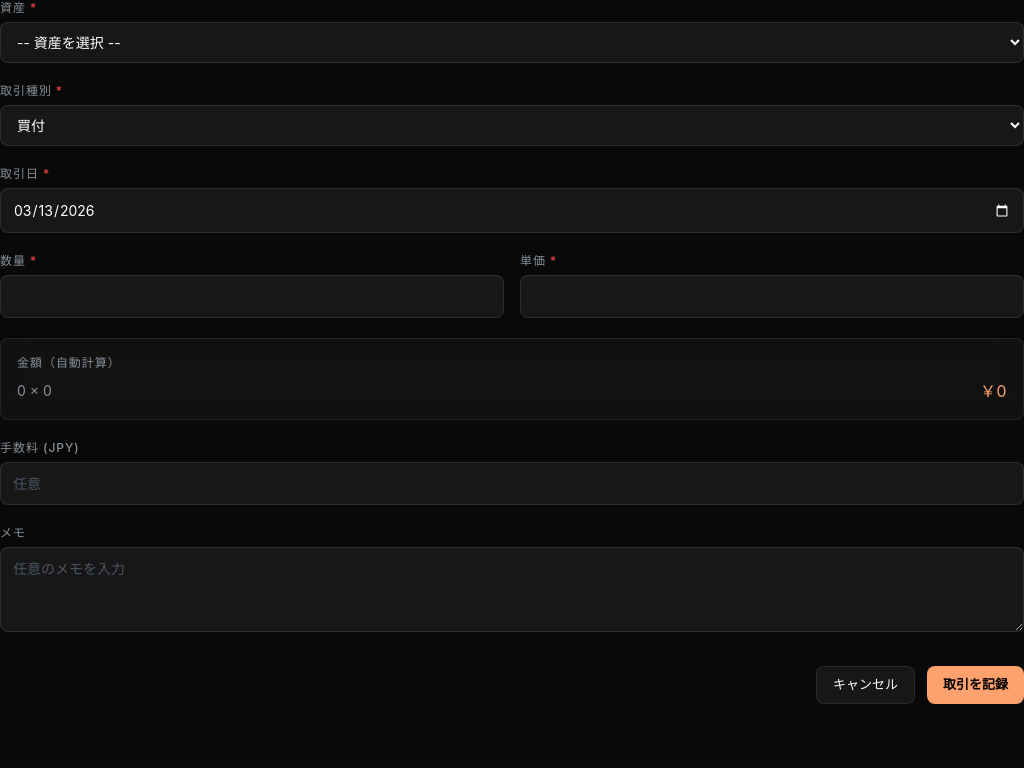
Test case: TransactionForm new asset mode › shows new asset fields when "新規資産として記録" is selected
Select "＋ 新規資産として記録" in the dropdown labelled "資産*". click: (512, 42)
box: [0, 22, 1023, 63]
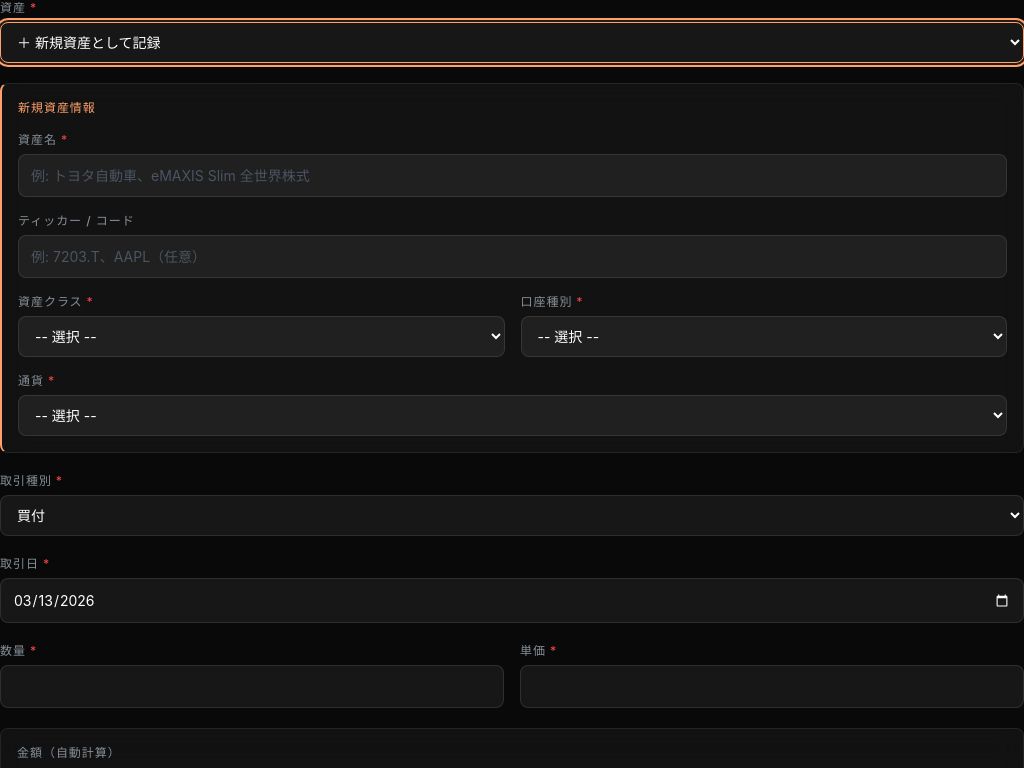
Check: the text "新規資産情報" is shown, box [18, 100, 96, 115]
Check: the field labelled "資産名*" is shown, box [18, 154, 1007, 197]
Check: the dropdown labelled "資産クラス*" is shown, box [18, 316, 504, 357]
